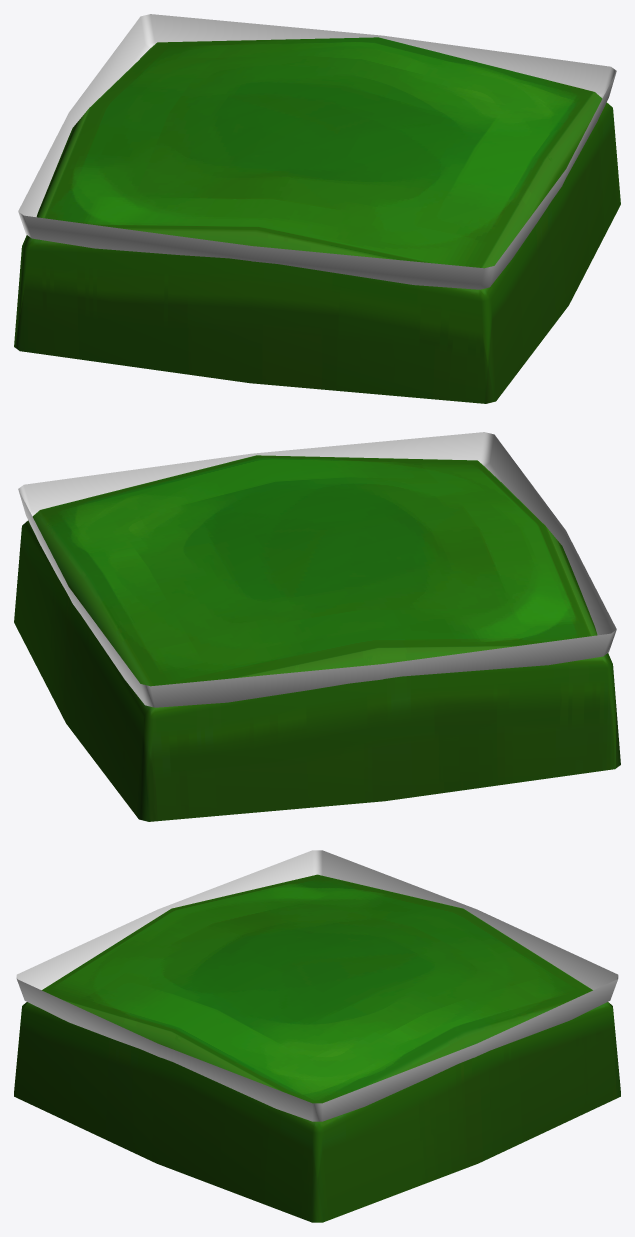
The model's file is simonbutton-bottom.fbx.
3 views of the same model, one above another, from view 1: azimuth 30°, elevation 25°; view 2: azimuth 150°, elevation 25°; view 3: azimuth 270°, elevation 25° (orthographic). The views are drawn at different scales.
Parts seen in each view (by area): view 1: button, button_bottom_highlight; view 2: button, button_bottom_highlight; view 3: button, button_bottom_highlight.
Part boxes in pixels (left/top/right/bottom): button: left=14, top=37, right=620, bottom=403; button_bottom_highlight: left=18, top=14, right=616, bottom=289; button: left=14, top=455, right=620, bottom=821; button_bottom_highlight: left=18, top=432, right=616, bottom=707; button: left=14, top=874, right=620, bottom=1222; button_bottom_highlight: left=16, top=850, right=618, bottom=1121.
Bounding box in the file's own units: 0.0736 × 0.0181 × 0.0736.
1 material, 1 textured.
